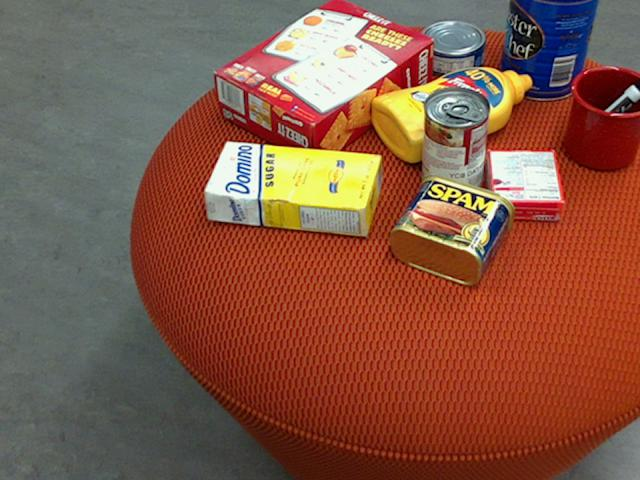cracker_box: (212, 0, 433, 166)
gelatin_box: (487, 150, 565, 221)
large_marker: (568, 76, 639, 151)
master_chef_can: (498, 0, 598, 99)
mug: (564, 65, 639, 170)
mustard_bottle: (370, 67, 531, 161)
potted_meat_can: (389, 172, 513, 285)
sugar_box: (201, 140, 381, 237)
tomato_soup_can: (421, 84, 488, 199)
tuna_fish_can: (416, 20, 485, 75)
